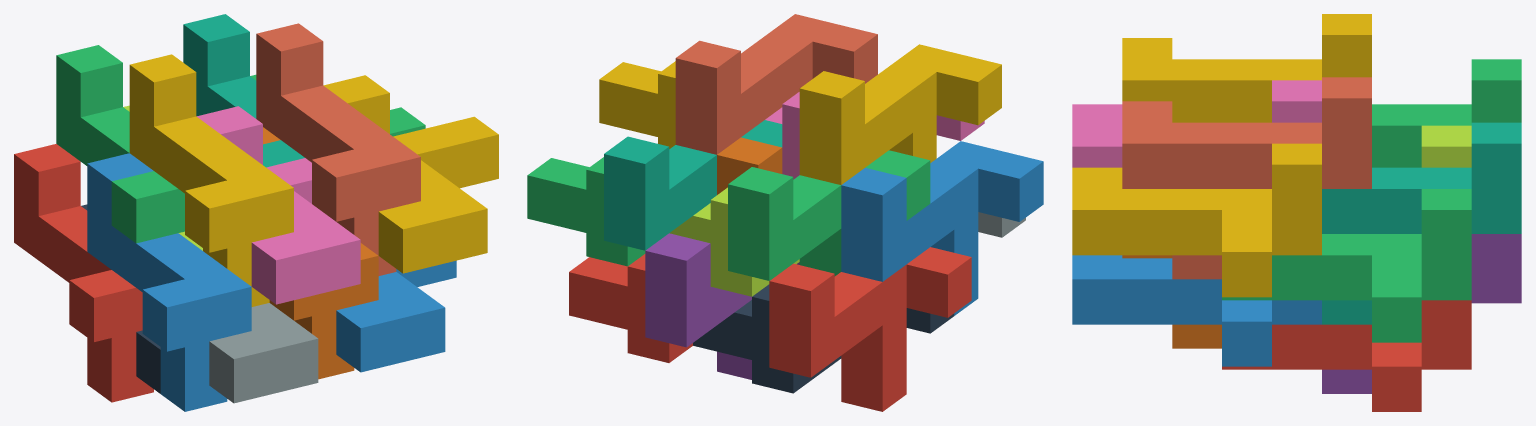
Rendered from tiling.obj.
3 views of the same model, side by side, from view 1: azimuth 30°, elevation 25°; view 2: azimuth 150°, elevation 25°; view 3: azimuth 270°, elevation 25° (orthographic). The views are drawn at different scales.
Visible parts, largest first — view 1: copy_1_domain_4, copy_1_domain_8, copy_1_domain_2, copy_1_domain_1, copy_2_domain_8, copy_1_domain_3, copy_2_domain_4, copy_2_domain_6, copy_2_domain_2, copy_1_domain_7, copy_1_domain_6, copy_2_domain_1 (+1 smaller); view 2: copy_1_domain_1, copy_1_domain_4, copy_1_domain_2, copy_1_domain_8, copy_1_domain_3, copy_1_domain_7, copy_1_domain_5, copy_2_domain_7, copy_2_domain_5, copy_2_domain_1, copy_2_domain_8, copy_2_domain_3 (+3 smaller); view 3: copy_2_domain_8, copy_1_domain_8, copy_2_domain_7, copy_1_domain_4, copy_2_domain_6, copy_1_domain_7, copy_2_domain_5, copy_1_domain_3, copy_2_domain_4, copy_1_domain_5, copy_2_domain_3, copy_1_domain_6.
Boxes of the visible parts, box(x1,y1,x2,y2) form: copy_1_domain_4: box(129, 54, 293, 306); copy_1_domain_8: box(256, 23, 420, 275); copy_1_domain_2: box(87, 153, 251, 411); copy_1_domain_1: box(14, 144, 153, 402); copy_2_domain_8: box(323, 75, 498, 273); copy_1_domain_3: box(56, 45, 184, 243); copy_2_domain_4: box(196, 106, 360, 304); copy_2_domain_6: box(336, 260, 456, 372); copy_2_domain_2: box(209, 303, 318, 403); copy_1_domain_7: box(183, 14, 304, 167); copy_1_domain_6: box(263, 127, 378, 379); copy_2_domain_1: box(81, 204, 160, 393); copy_1_domain_1: box(769, 247, 971, 411); copy_1_domain_4: box(799, 44, 1001, 184); copy_1_domain_2: box(841, 141, 1043, 315); copy_1_domain_8: box(675, 14, 877, 154); copy_1_domain_3: box(728, 150, 930, 280); copy_1_domain_7: box(604, 120, 782, 250); copy_1_domain_5: box(645, 233, 799, 379); copy_2_domain_7: box(527, 157, 645, 266); copy_2_domain_5: box(569, 254, 692, 362); copy_2_domain_1: box(693, 284, 954, 393); copy_2_domain_8: box(599, 61, 675, 148); copy_2_domain_3: box(669, 187, 799, 296); copy_2_domain_8: box(1072, 143, 1321, 297); copy_1_domain_8: box(1122, 77, 1371, 279); copy_2_domain_7: box(1222, 189, 1471, 342); copy_1_domain_4: box(1122, 14, 1371, 122); copy_2_domain_6: box(1072, 255, 1321, 366); copy_1_domain_7: box(1322, 122, 1521, 324); copy_2_domain_5: box(1222, 300, 1471, 411); copy_1_domain_3: box(1372, 59, 1521, 167); copy_2_domain_4: box(1072, 80, 1321, 167); copy_1_domain_5: box(1322, 234, 1521, 393); copy_2_domain_3: box(1421, 125, 1471, 167); copy_1_domain_6: box(1122, 255, 1221, 348).
Bounding box in the file's own units: 9 × 7 × 9.
